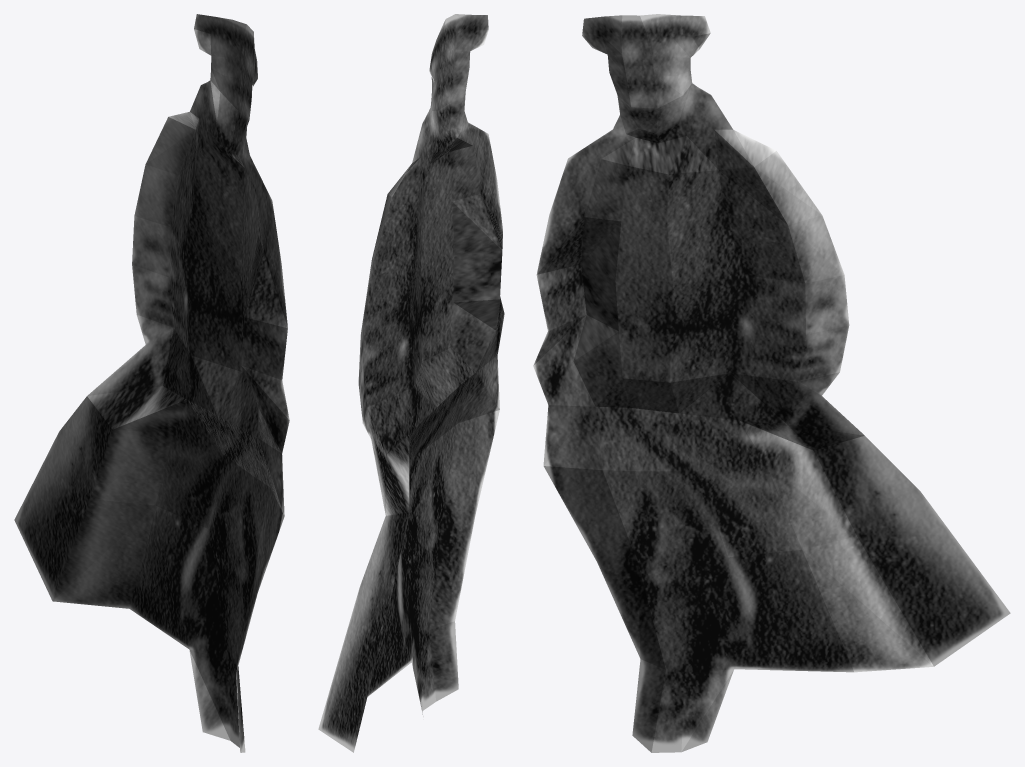
Rendered from Man_03.fbx.
3 renders of one model, left to right at view 1: azimuth 30°, elevation 25°; view 2: azimuth 150°, elevation 25°; view 3: azimuth 270°, elevation 25°, orthographic. The views are drawn at different scales.
Visible parts, largest first — view 1: Man_03; view 2: Man_03; view 3: Man_03.
Part boxes in pixels (x1,y1,x2,y2): Man_03: (14,14,289,752); Man_03: (318,14,504,752); Man_03: (533,14,1010,752).
Bounding box in the file's own units: 0.0813 × 0.987 × 0.581.
1 material, 1 textured.
